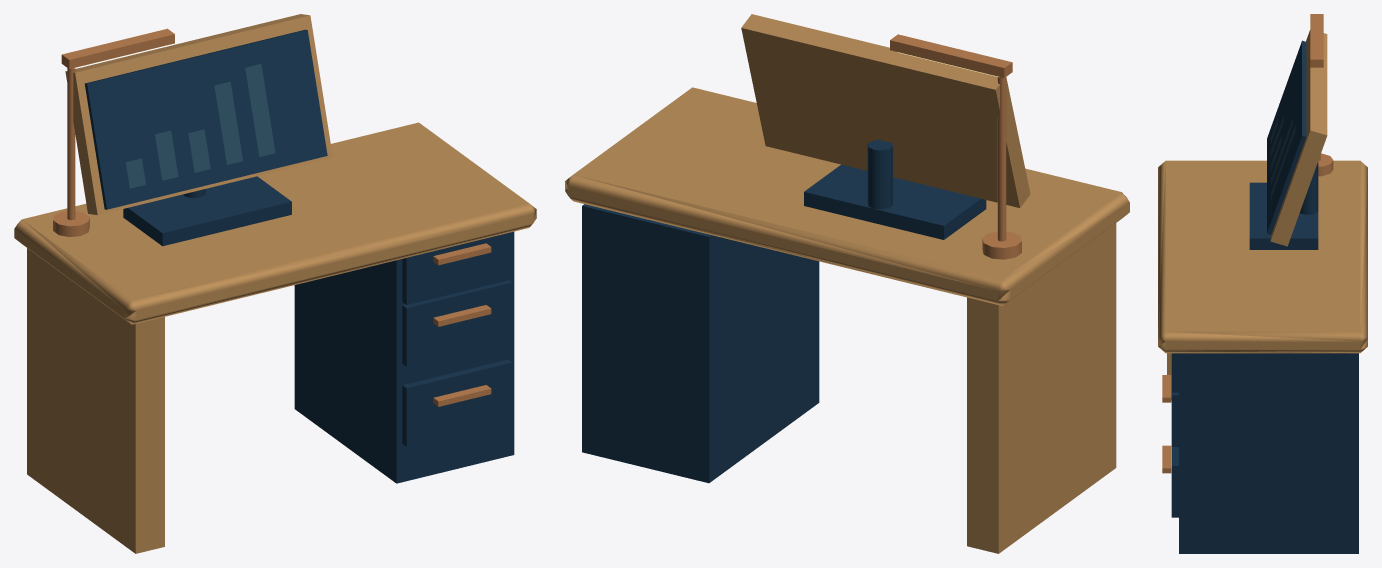
Rendered from research-desk.fbx.
3 views of the same model, side by side, from view 1: azimuth 30°, elevation 25°; view 2: azimuth 150°, elevation 25°; view 3: azimuth 270°, elevation 25° (orthographic). The views are drawn at different scales.
Parts seen in each view (by area): view 1: research-desk; view 2: research-desk; view 3: research-desk.
Part boxes in pixels (x1,y1,x2,y2): research-desk: [14, 14, 536, 553]; research-desk: [565, 14, 1129, 553]; research-desk: [1158, 14, 1367, 553].
Size of the model in its own units: 140 by 140 by 70.
